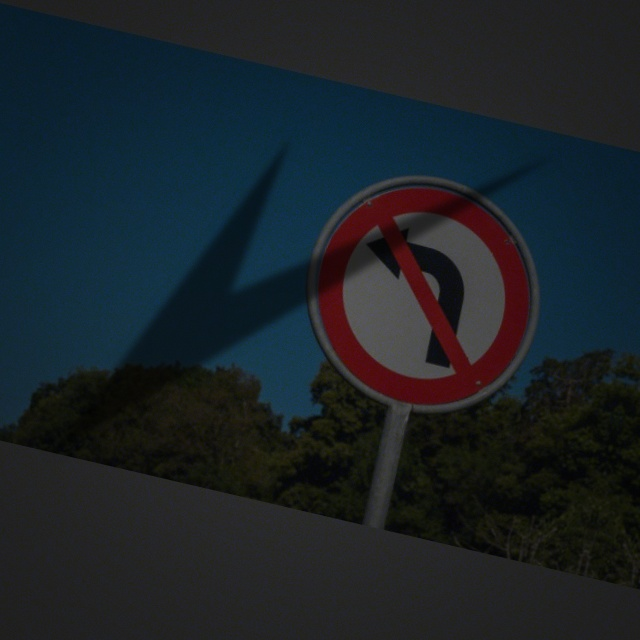Left_Turn_Prohibited: (285, 163, 562, 430)
